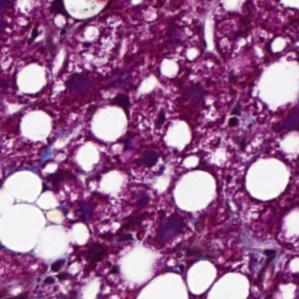inflammation: (130, 143, 171, 185)
